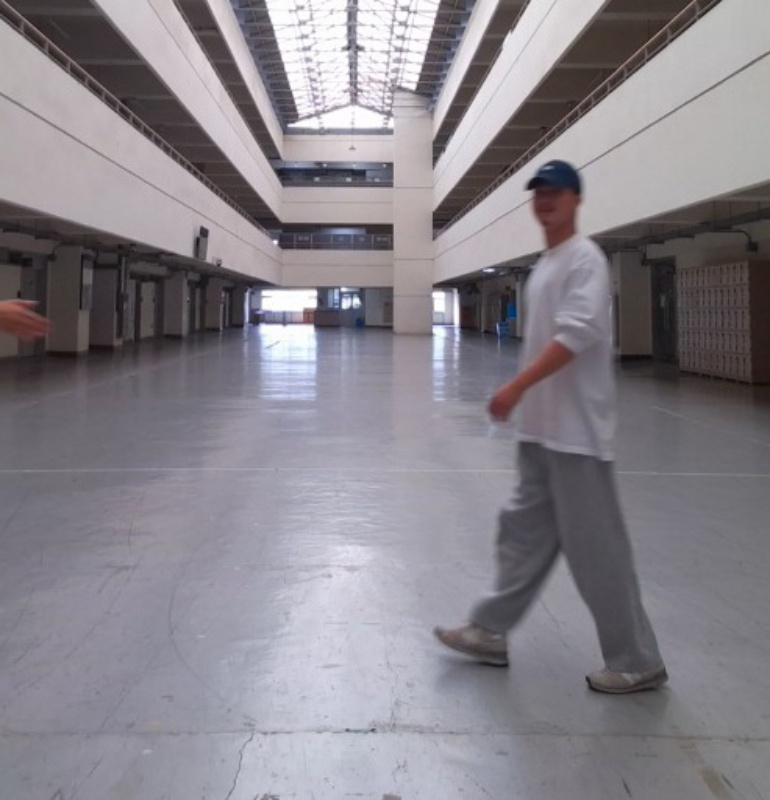person: (424, 157, 667, 698)
